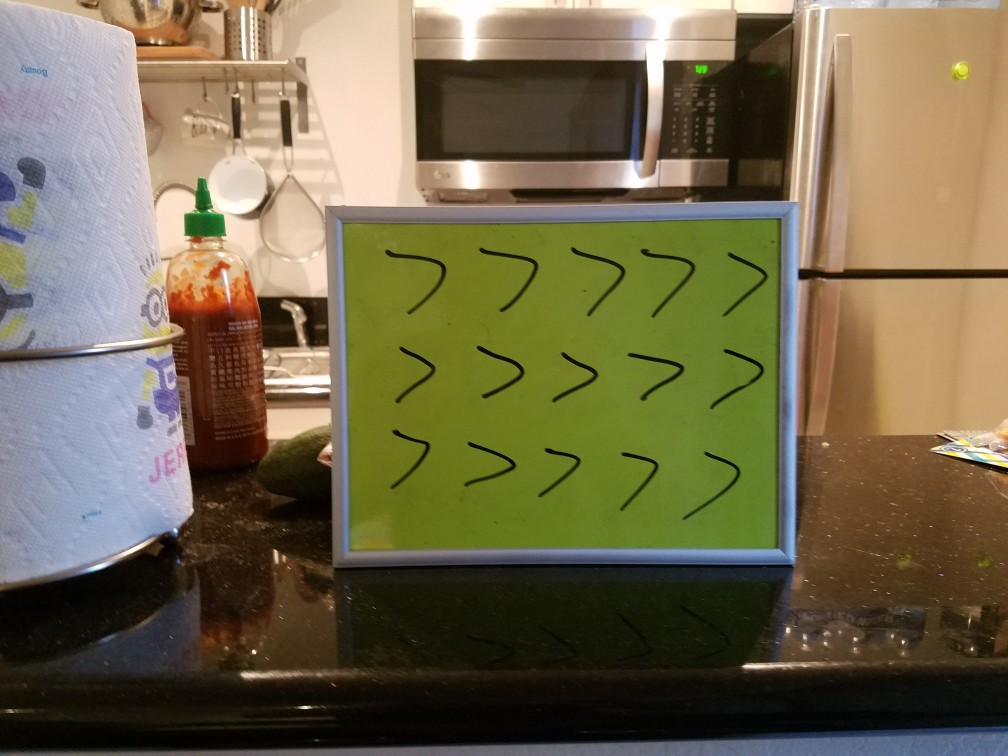>: (370, 226, 450, 330), (635, 226, 703, 324), (552, 229, 624, 320), (711, 227, 773, 329), (530, 433, 599, 521), (366, 411, 440, 493), (700, 335, 768, 420), (473, 230, 536, 320), (621, 338, 689, 421), (458, 420, 526, 499), (682, 442, 746, 524), (379, 330, 442, 409), (611, 438, 673, 518), (457, 338, 528, 406), (545, 339, 603, 415)
